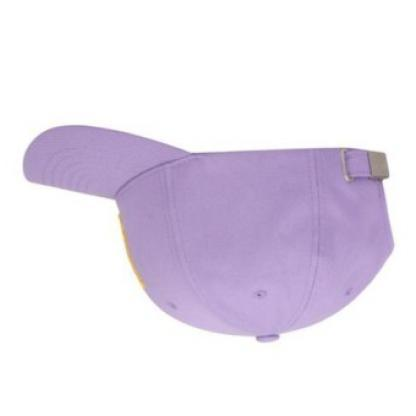cap: (12, 105, 406, 357)
